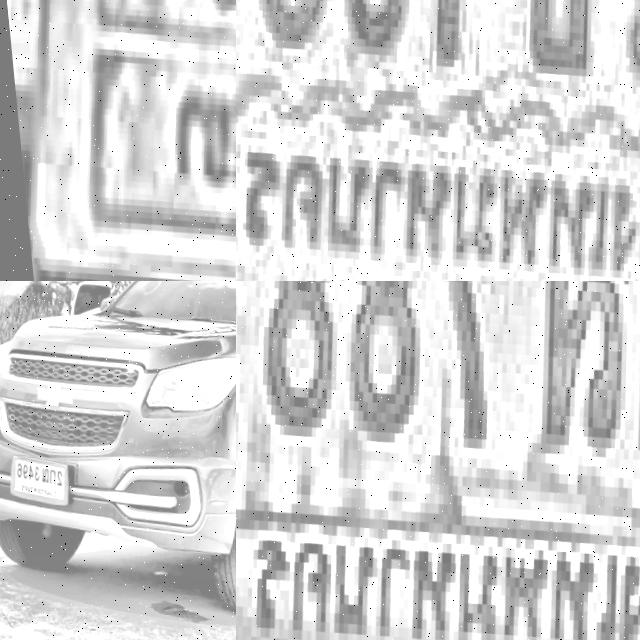license-plate: (236, 281, 640, 640), (236, 0, 640, 281), (0, 0, 236, 281), (0, 449, 68, 509)
